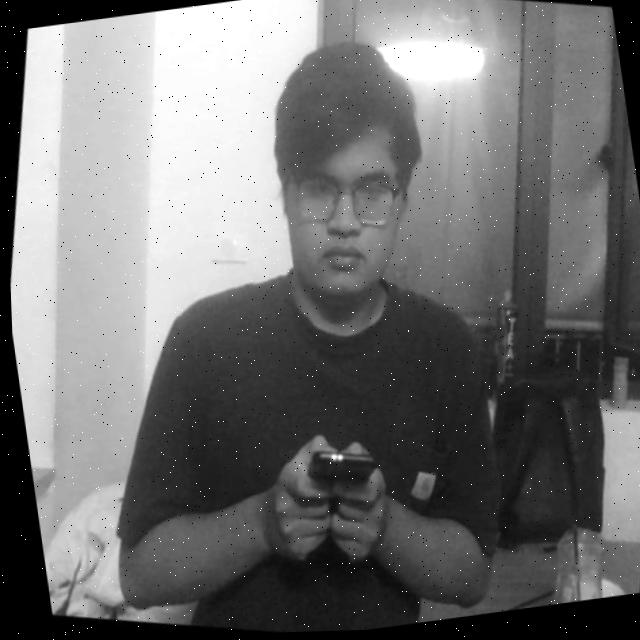phone: (284, 419, 394, 521)
